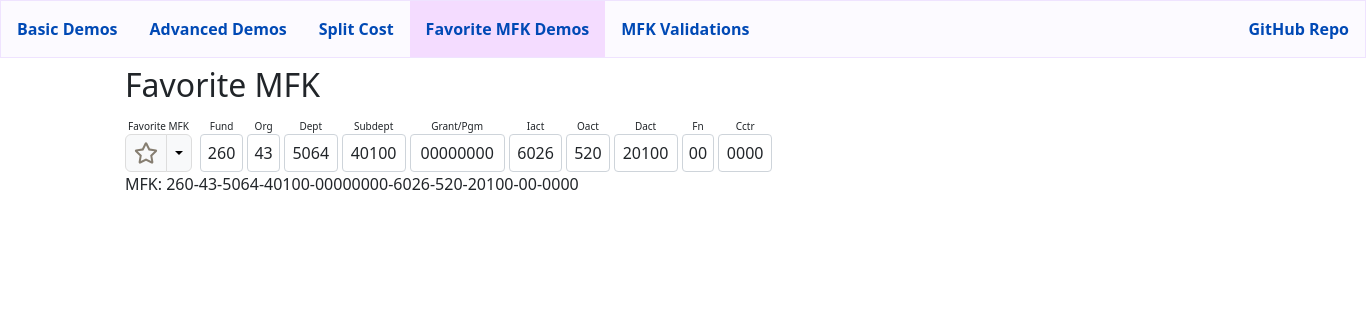
it: Favorite MFK Demos › should correctly add an MFK to the favorite MFKs list
The image size is (1366, 320).
Expected: the element showing "260-43-5064-40100-00000000-6026-520-20100-00-0000" is shown, left=166, top=173, right=579, bottom=195
Step 1. Click the icon named "Add to favorite MFKs" → (146, 153), box left=134, top=141, right=158, bottom=165
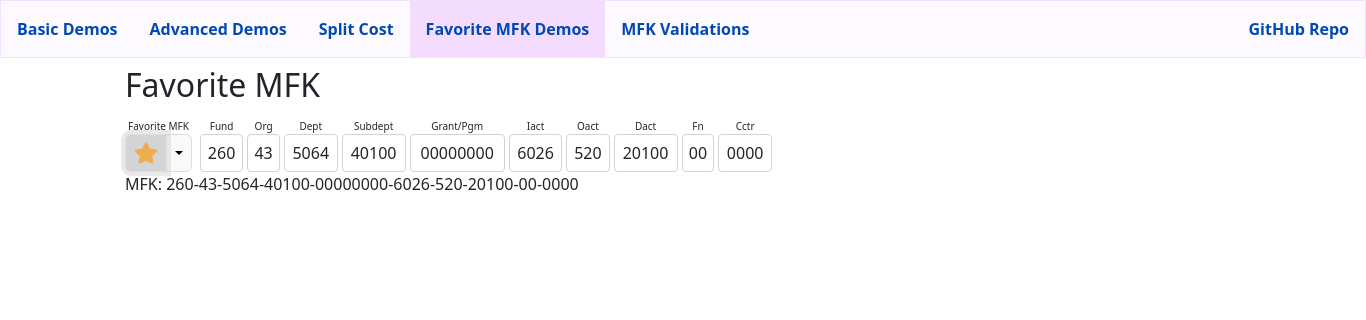
Step 2. Click the button with class "dropdown-toggle" → (179, 153), box left=166, top=134, right=192, bottom=172
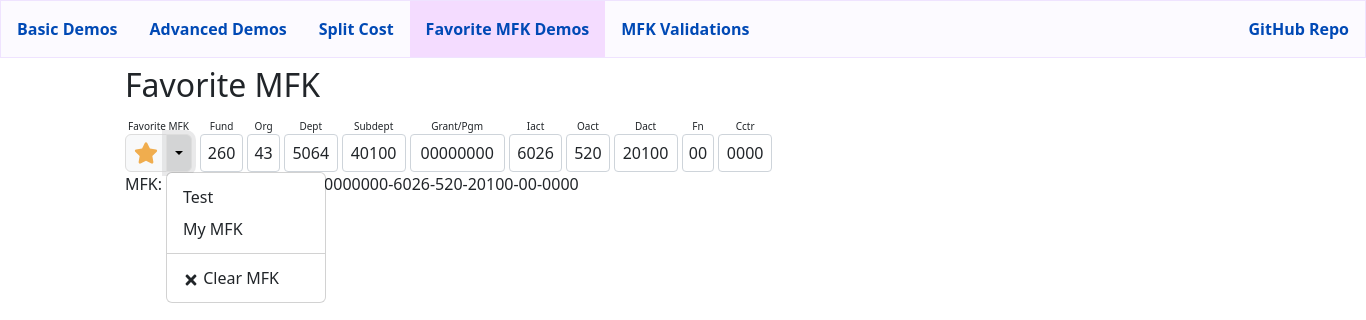
Now the list item "My MFK" is shown, box left=183, top=218, right=243, bottom=240
Now the list item "Test" is shown
Step 3. Click the list item "Test" → (198, 197), box left=183, top=186, right=213, bottom=208
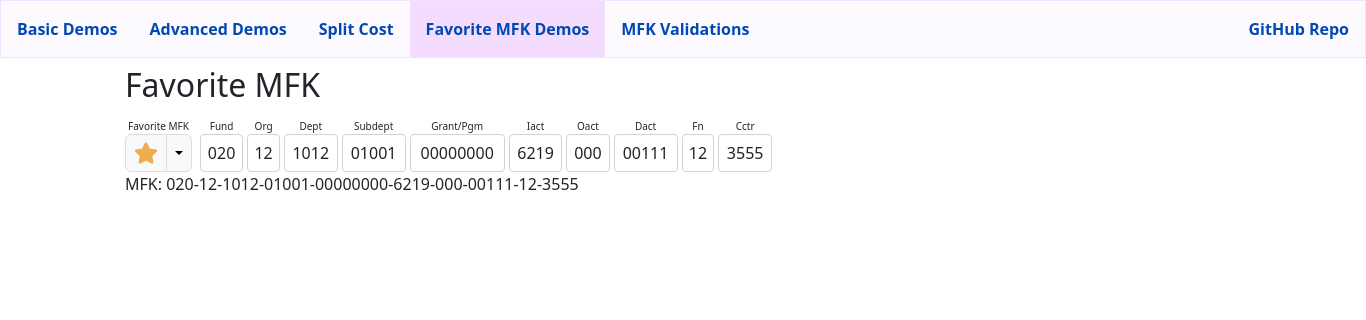
Now the element showing "020-12-1012-01001-00000000-6219-000-00111-12-3555" is shown, box left=166, top=173, right=579, bottom=195
Step 4. Click the button with class "dropdown-toggle" → (179, 153), box left=166, top=134, right=192, bottom=172
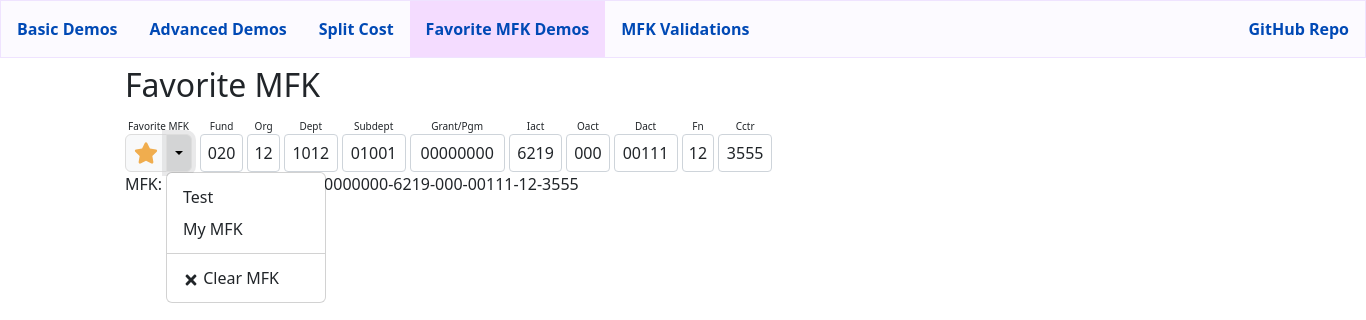
Now the list item "My MFK" is shown
Step 5. Click the list item "My MFK" → (213, 229), box left=183, top=218, right=243, bottom=240
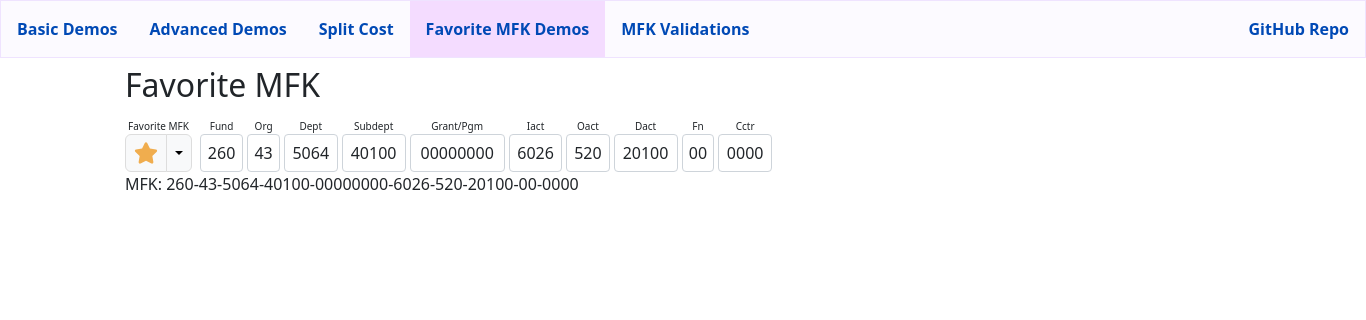
Now the element showing "260-43-5064-40100-00000000-6026-520-20100-00-0000" is shown, box left=166, top=173, right=579, bottom=195
